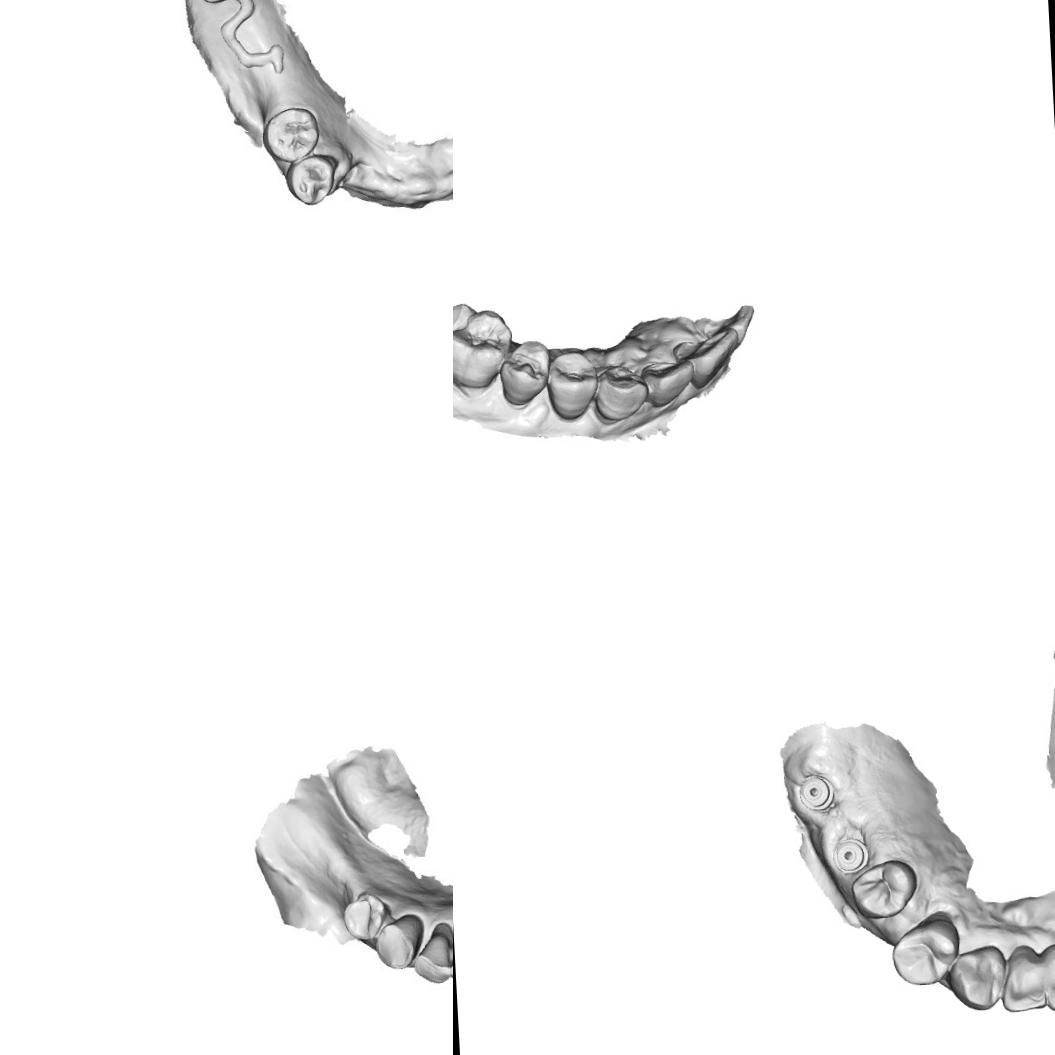canine: (944, 944, 1008, 1011), (590, 361, 648, 426), (374, 914, 424, 970)
implant: (794, 770, 837, 814), (829, 836, 870, 875)
incisor: (687, 326, 742, 391), (996, 947, 1048, 1014), (641, 355, 695, 410), (409, 932, 449, 986), (719, 304, 758, 348), (1037, 940, 1055, 1012), (444, 933, 453, 984)
molar: (453, 298, 516, 390)
premolar: (888, 916, 963, 989), (846, 856, 918, 922), (545, 348, 600, 422), (498, 338, 552, 406), (262, 104, 320, 162), (284, 154, 340, 206), (342, 889, 389, 945)
